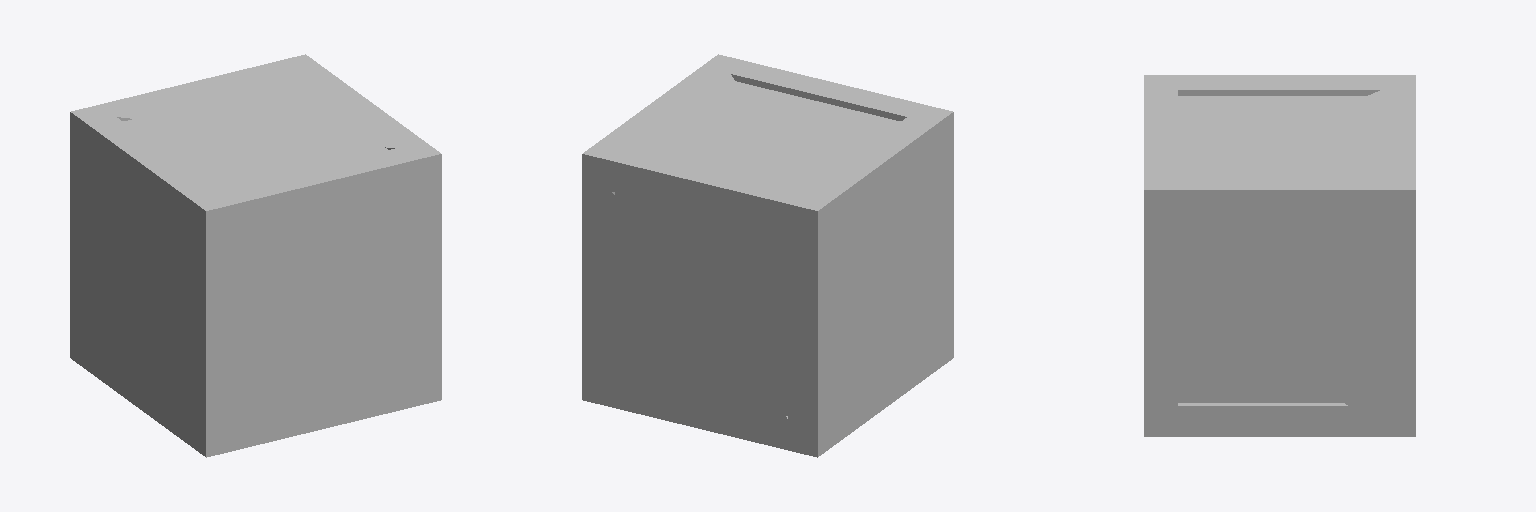
Rendered from Props_Crate_Geo.obj.
The picture shows the model from 3 angles: view 1: azimuth 30°, elevation 25°; view 2: azimuth 150°, elevation 25°; view 3: azimuth 270°, elevation 25°; orthographic projection.
Parts seen in each view (by area): view 1: PropZoo:pCube15; view 2: PropZoo:pCube15; view 3: PropZoo:pCube15.
Part boxes in pixels (left/top/right/bottom): PropZoo:pCube15: left=70, top=54, right=441, bottom=457; PropZoo:pCube15: left=582, top=54, right=953, bottom=457; PropZoo:pCube15: left=1144, top=75, right=1415, bottom=436.
Size of the model in its own units: 1 by 1 by 1.